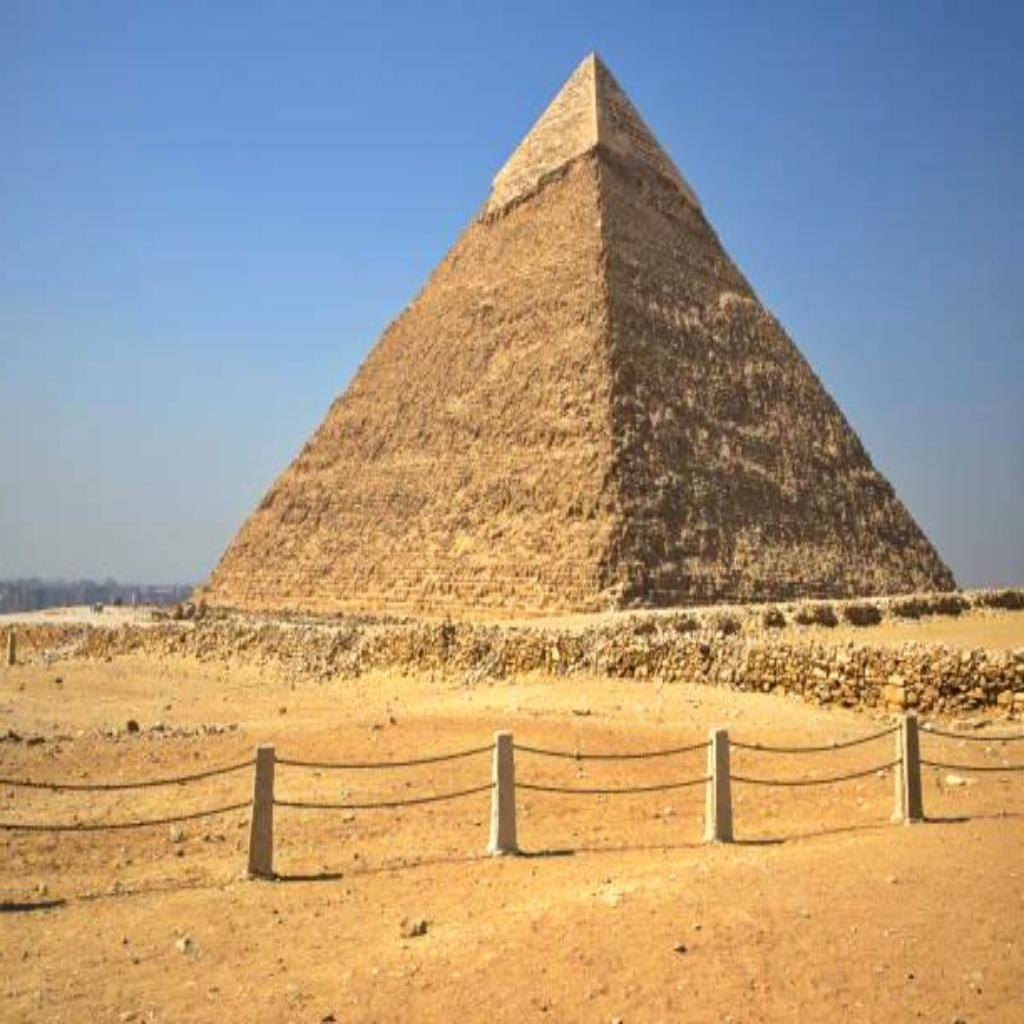Great Pyramids of Giza: (188, 46, 964, 618)
